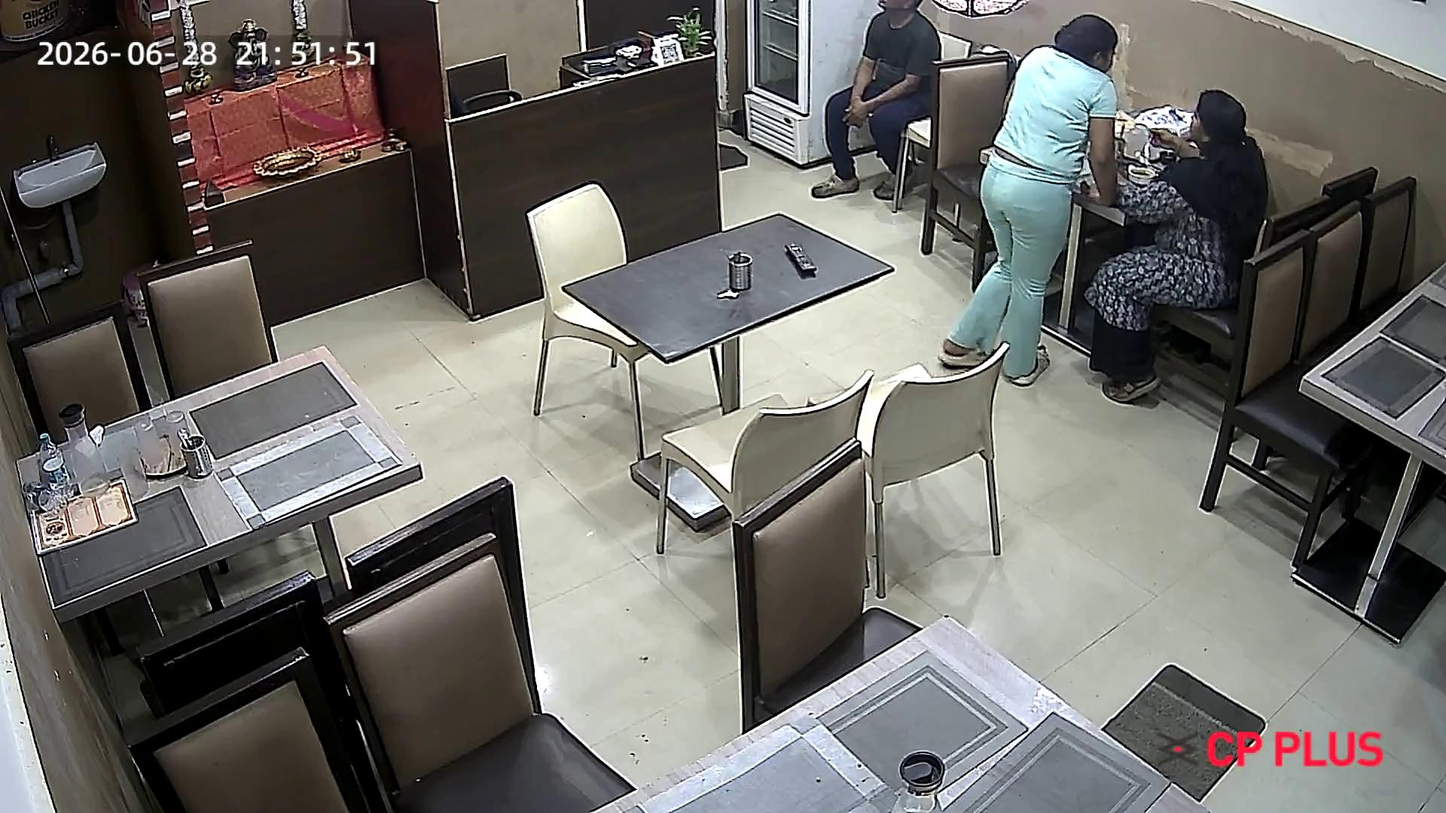clean: (607, 668, 1173, 813), (560, 209, 898, 362)
dirty: (13, 339, 422, 609)
